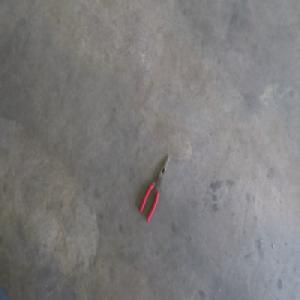Pliers: (139, 152, 170, 222)
